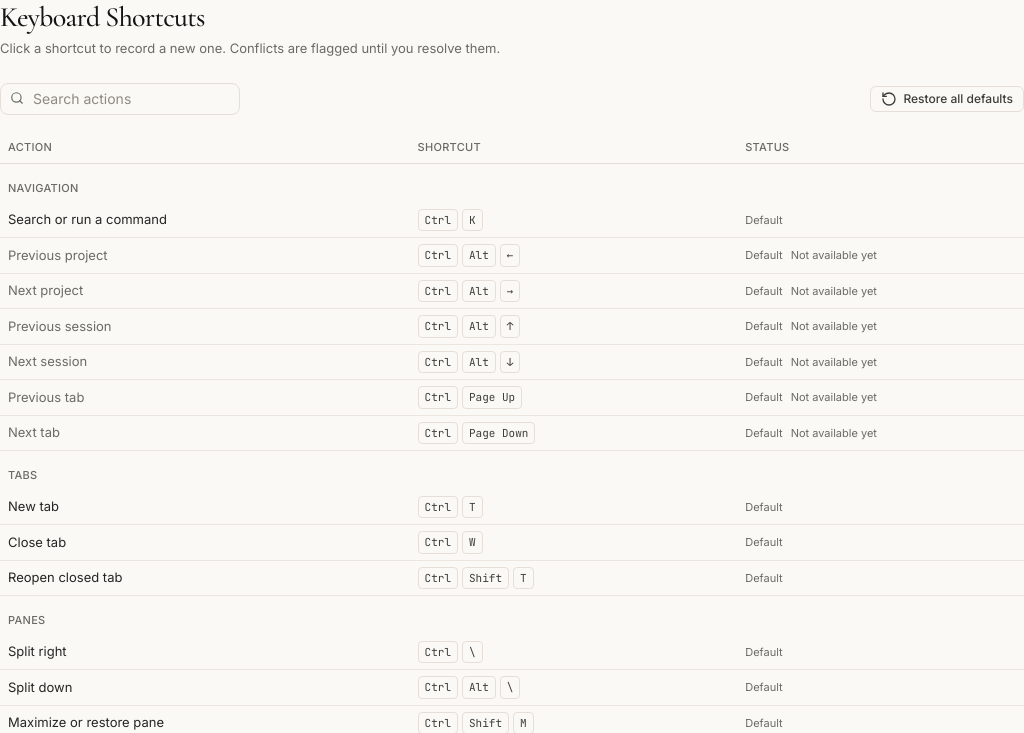
Test case: records, cancels, saves and restores focus
The image size is (1024, 733).
Click the button with aria-label "Change shortcut for New tab" at (450, 507), box [418,496,483,518]
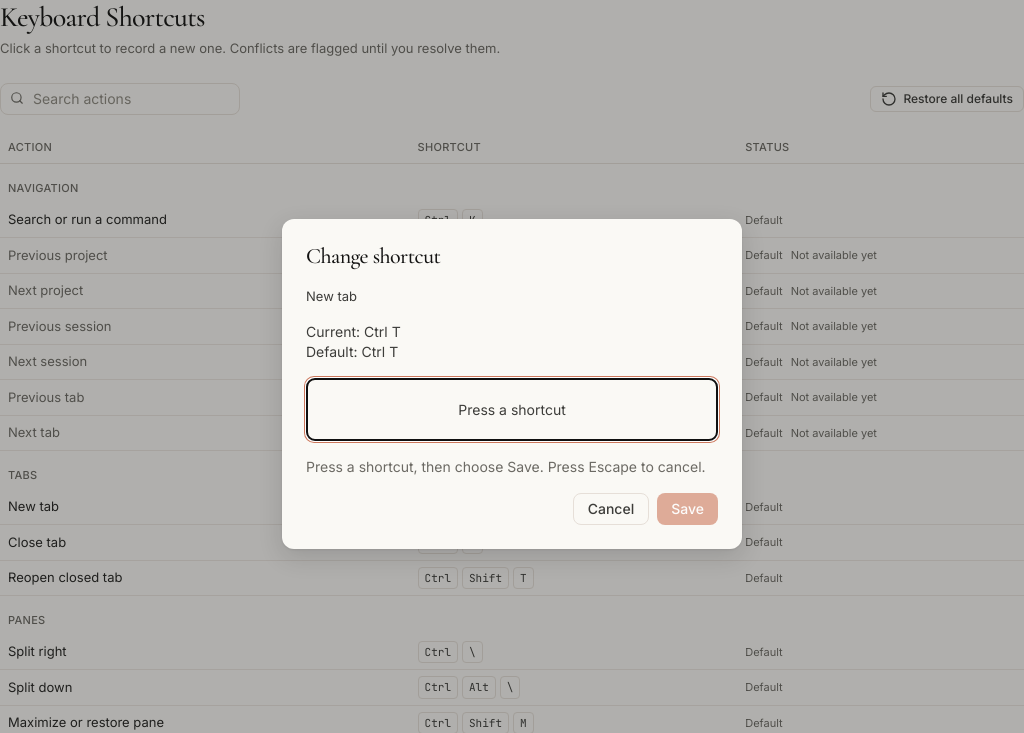
Press KeyY in the button "Press a shortcut", box [306,378,718,441]
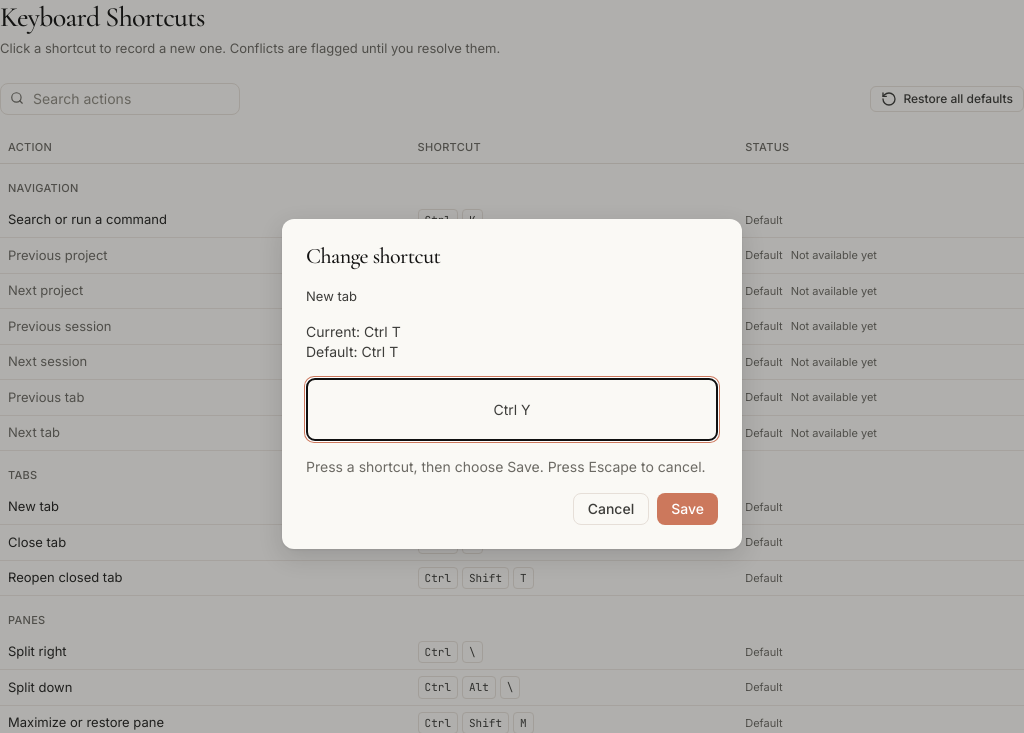
Click the button "Cancel" at (611, 509), box [573,493,649,525]
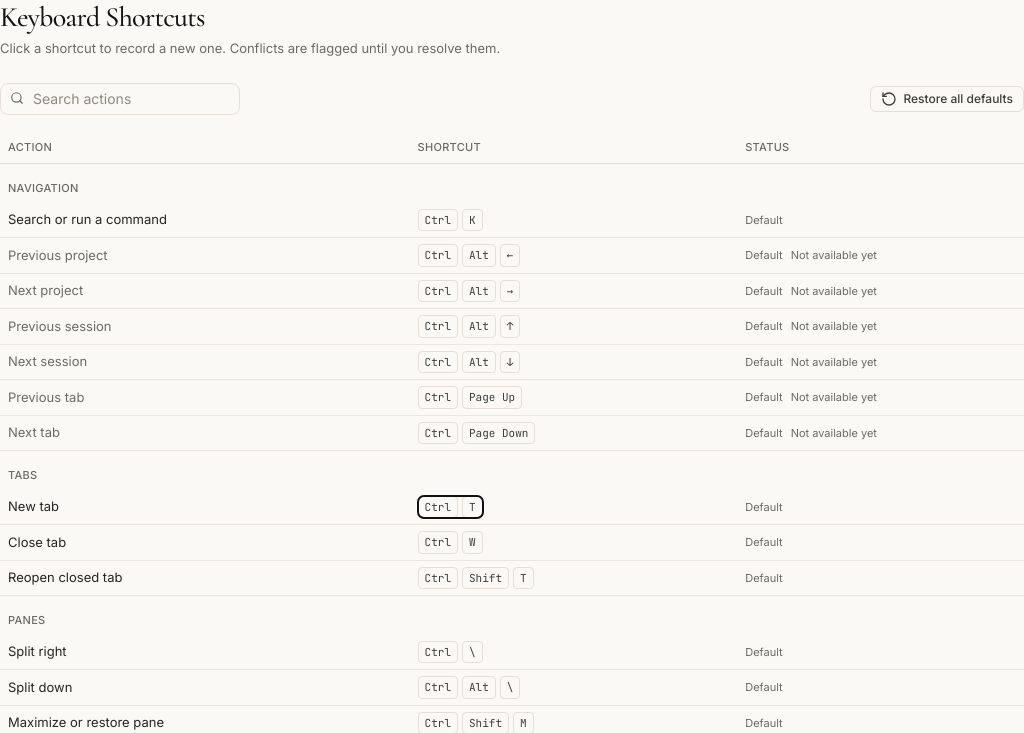
Click the button with aria-label "Change shortcut for New tab" at (450, 507), box [418,496,483,518]
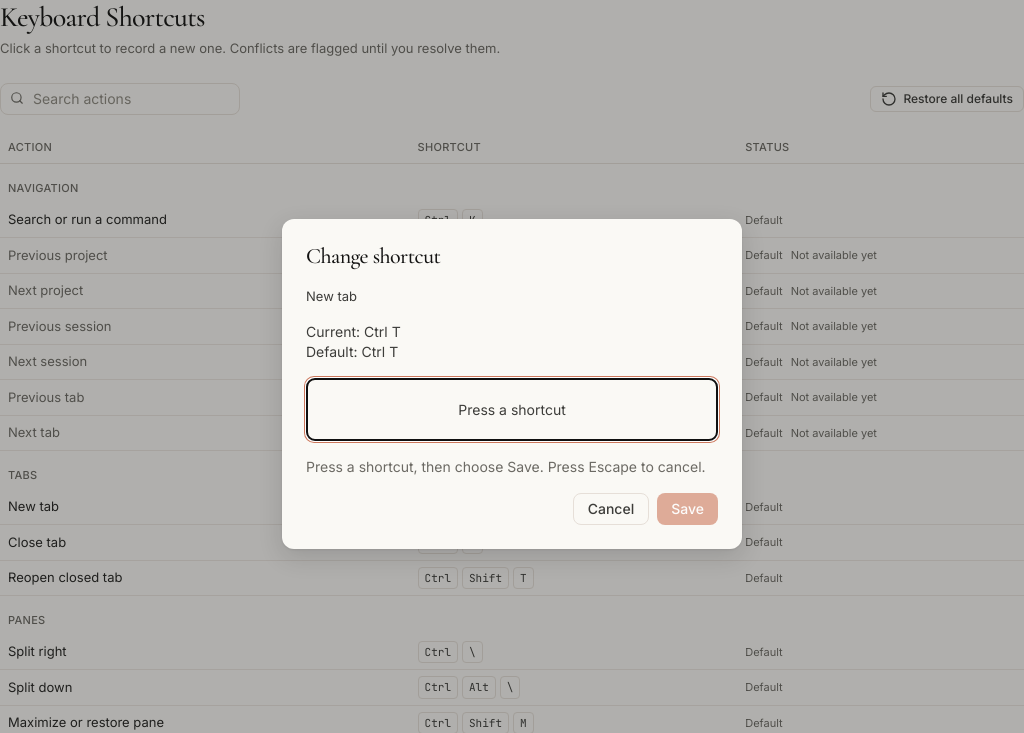
Press KeyY in the button "Press a shortcut", box [306,378,718,441]
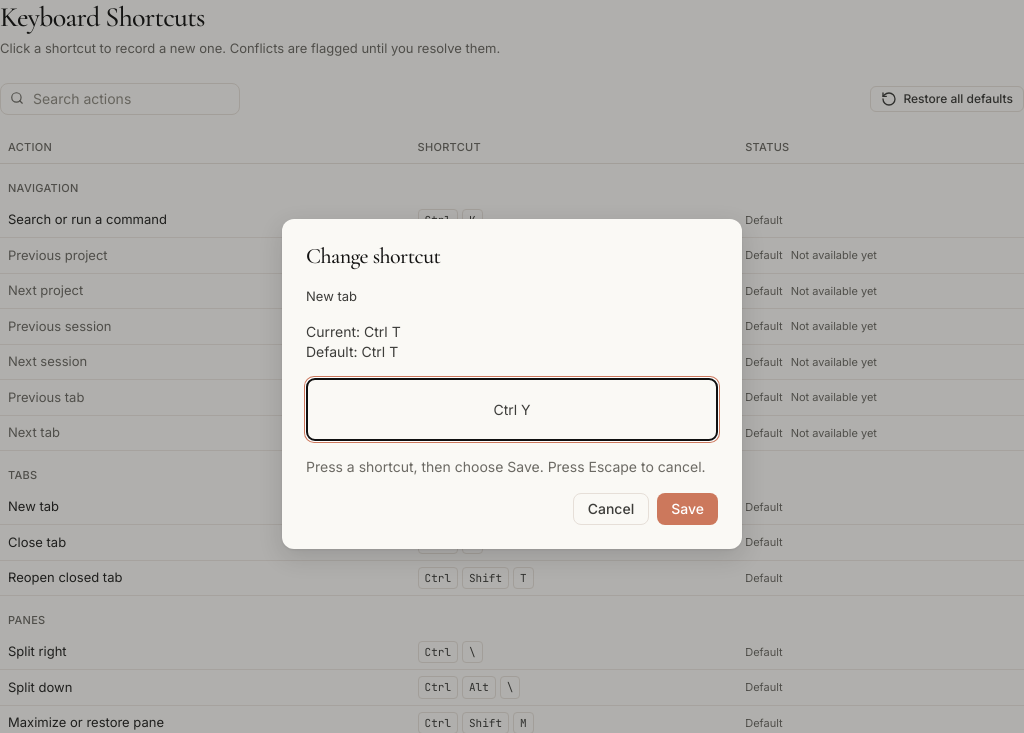
Click the button "Save" at (688, 509), box [657,493,718,525]
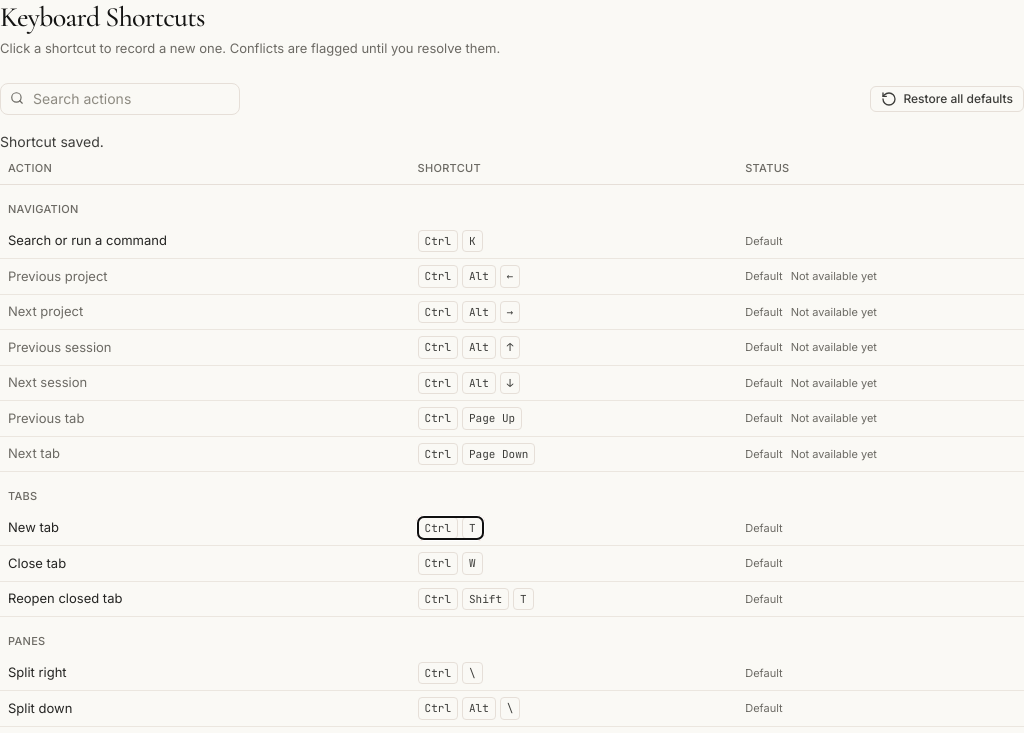
Now the text "Shortcut saved." is shown, box [0,132,104,150]
